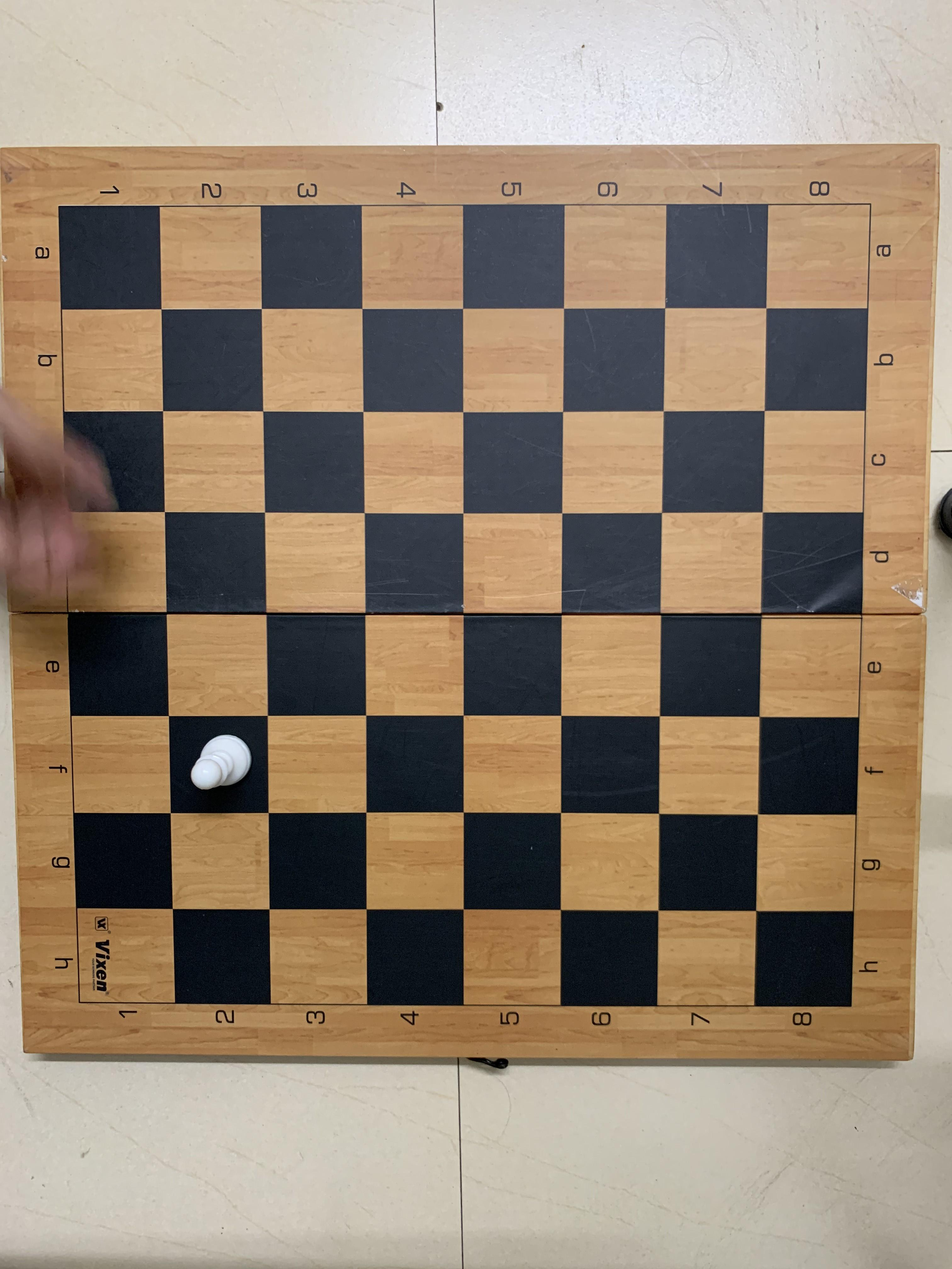white_pawn: (167, 712, 263, 814)
